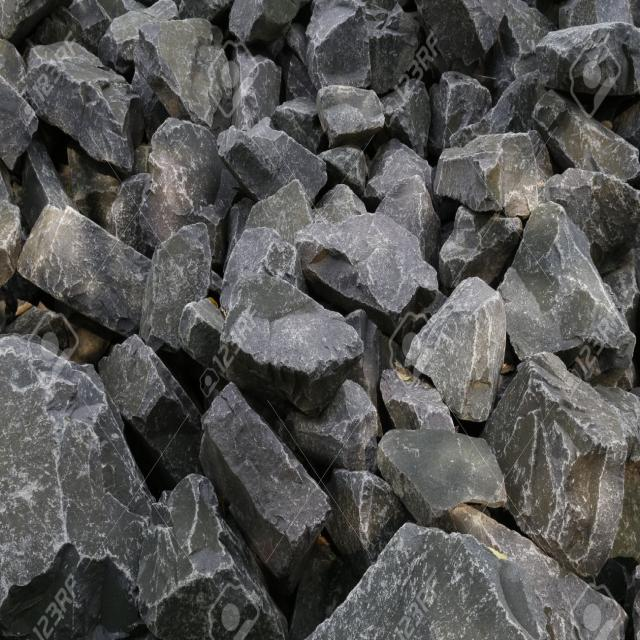Igneous: (1, 3, 640, 634)
